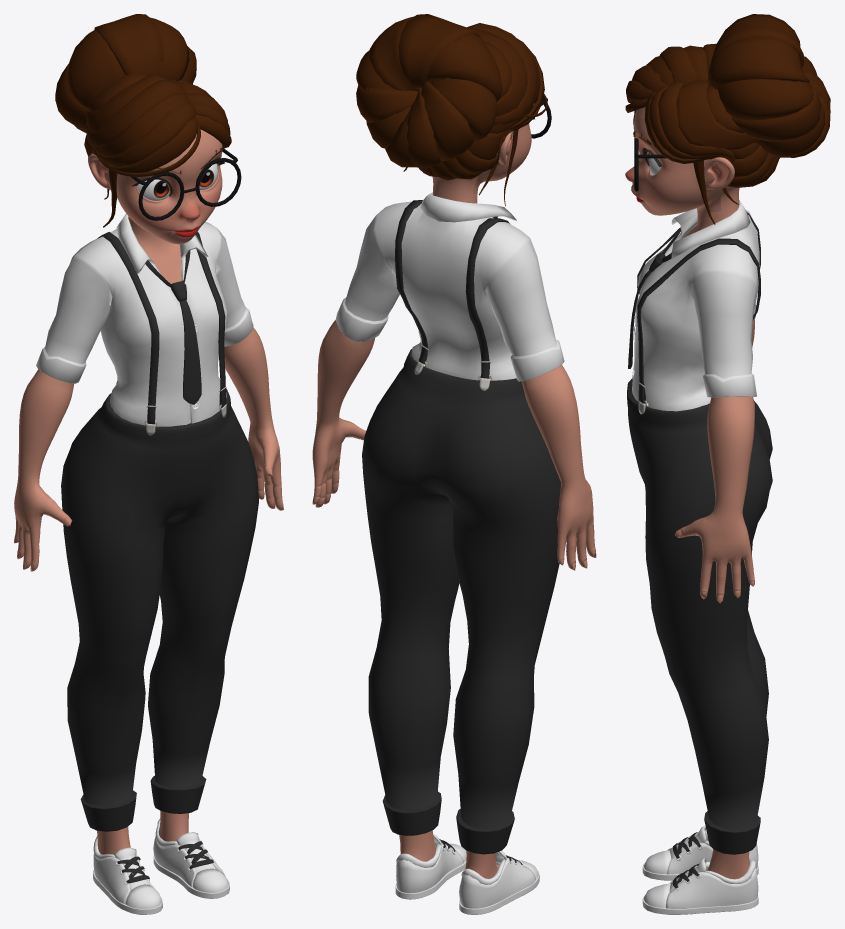
Rendered from WaitressCH.glb.
3 renders of one model, left to right at view 1: azimuth 30°, elevation 25°; view 2: azimuth 150°, elevation 25°; view 3: azimuth 270°, elevation 25°, orthographic. The views are drawn at different scales.
Parts seen in each view (by area): view 1: Cloths, Hair, Static, BodySG4_st_st; view 2: Cloths, Hair, Static, BodySG4_st_st; view 3: Cloths, Hair, Static, BodySG4_st_st.
Boxes of the visible parts, left/top/right/bottom form: Cloths: left=36, top=148, right=258, bottom=914; Hair: left=55, top=14, right=231, bottom=227; Static: left=14, top=129, right=283, bottom=854; BodySG4_st_st: left=105, top=131, right=223, bottom=244; Cloths: left=335, top=98, right=564, bottom=914; Hair: left=356, top=14, right=547, bottom=206; Static: left=312, top=118, right=596, bottom=878; BodySG4_st_st: left=473, top=123, right=531, bottom=194; Cloths: left=627, top=111, right=772, bottom=914; Hair: left=625, top=14, right=830, bottom=224; Static: left=642, top=148, right=754, bottom=879; BodySG4_st_st: left=625, top=106, right=722, bottom=217.
Size of the model in its own units: 29 by 92.04 by 19.82.
Materials: 10 (3 with a texture image).
